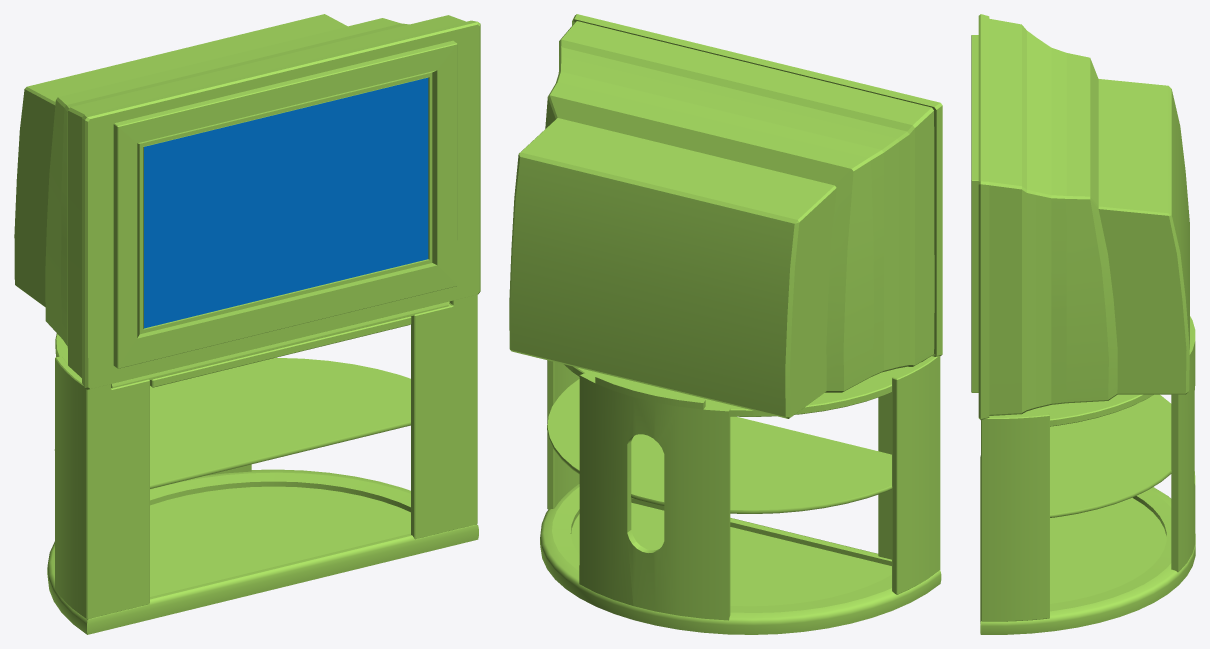
Rendered from TV_Gen_2.fbx.
3 views of the same model, side by side, from view 1: azimuth 30°, elevation 25°; view 2: azimuth 150°, elevation 25°; view 3: azimuth 270°, elevation 25° (orthographic). The views are drawn at different scales.
Parts seen in each view (by area): view 1: mesh_TV_body, mesh_glass; view 2: mesh_TV_body; view 3: mesh_TV_body.
Boxes of the visible parts, box(x1,y1,x2,y2) form: mesh_TV_body: box(14, 14, 480, 634); mesh_glass: box(144, 77, 428, 328); mesh_TV_body: box(509, 14, 942, 634); mesh_TV_body: box(971, 14, 1195, 634).
Size of the model in its own units: 120 by 150 by 67.11.
